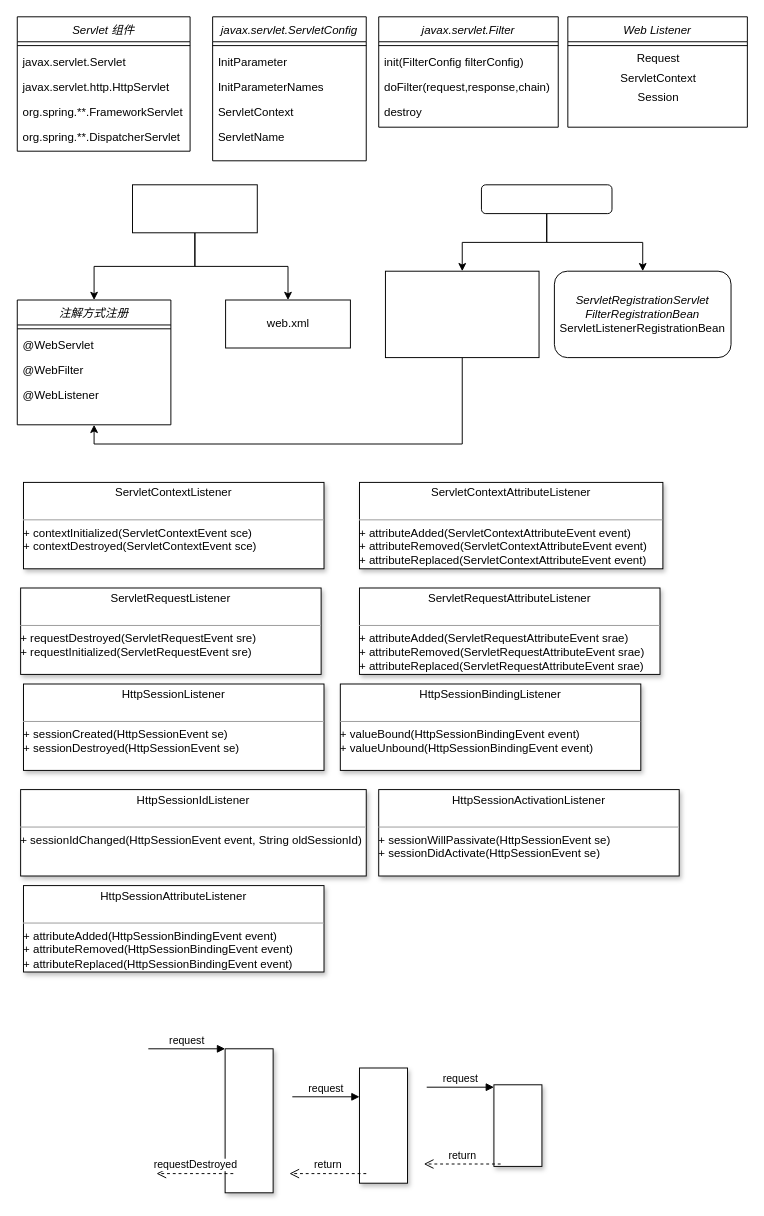
Some shapes in this 764 by 1216 pixel diagram are drawn without their labels. Here are the shapes that lost their labels. From the top down, the centre of each, then its label:
the point at 194,208: Serverlet 组件扫描
the point at 546,199: SpringBoot API 注册
the point at 461,314: @ServletCompentScan String[] basePackages Class[] basePackageClasses
the point at 249,1122: listener
the point at 384,1126: filter
the point at 518,1126: servlet
